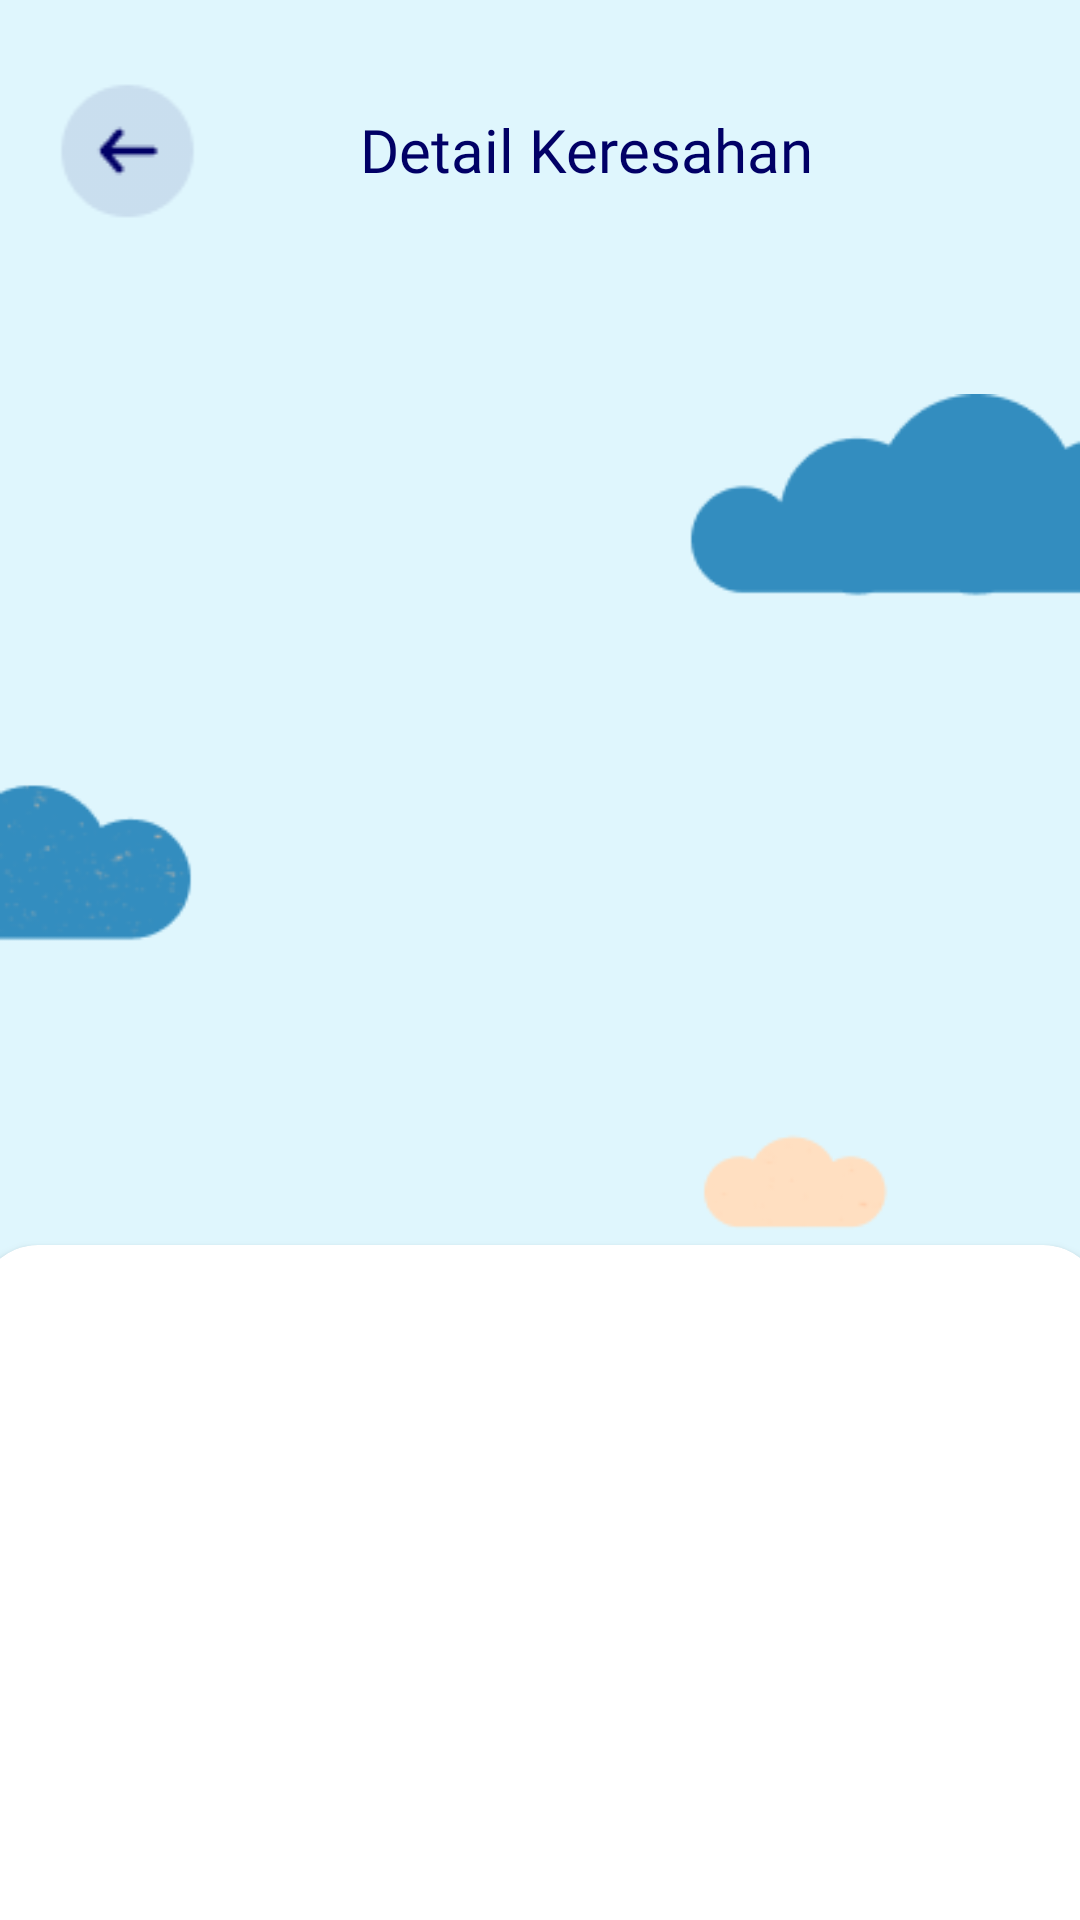

Icons on this 1080px x 1920px Android screen, each with the point to tap as point (x, y):
back: point (127, 151)
